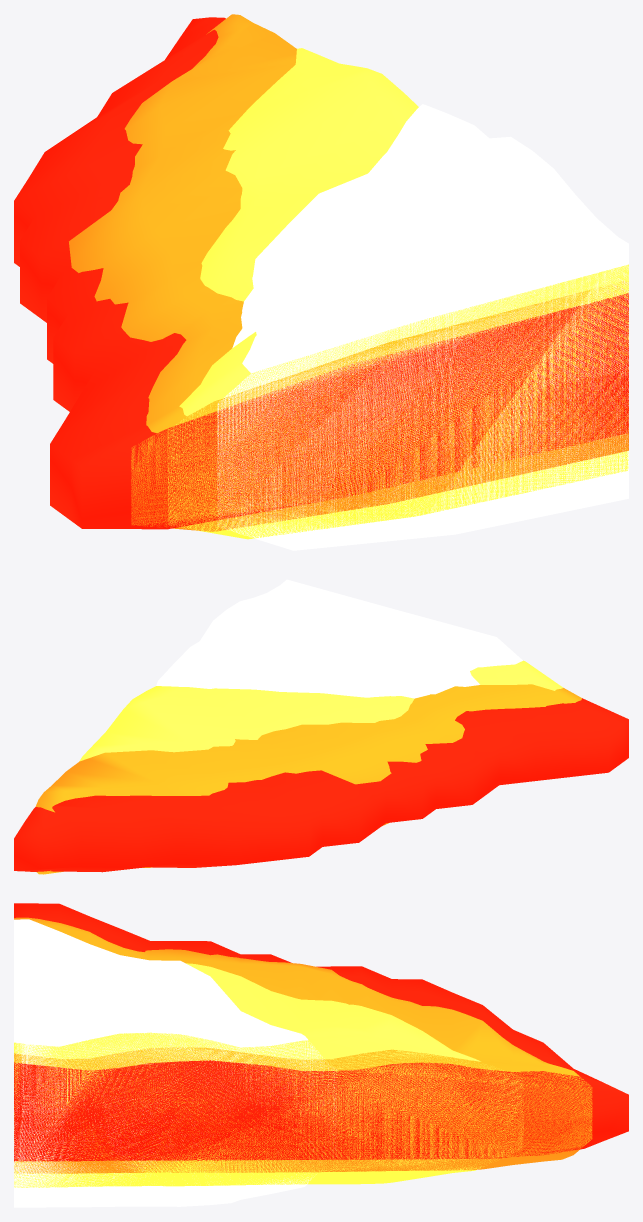
The model's file is newshk-13.glb.
The picture shows the model from 3 angles, top to bottom: view 1: azimuth 30°, elevation 25°; view 2: azimuth 150°, elevation 25°; view 3: azimuth 270°, elevation 25°; orthographic projection. The views are drawn at different scales.
Parts seen in each view (by area): view 1: newshk-13; view 2: newshk-13; view 3: newshk-13.
Boxes of the visible parts, box(x1,y1,x2,y2) form: newshk-13: box(14, 14, 628, 550); newshk-13: box(14, 579, 628, 874); newshk-13: box(14, 903, 628, 1207).
Bounding box in the file's own units: 1.23 × 0.5944 × 1.69.
